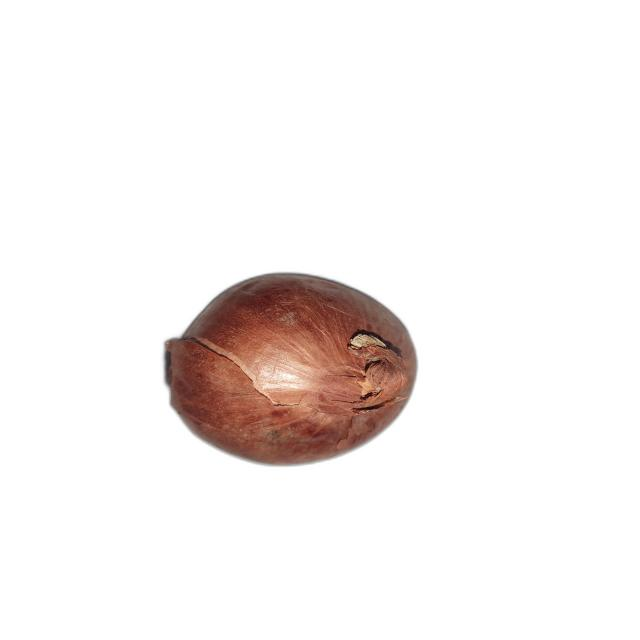onion: (166, 273, 420, 467)
